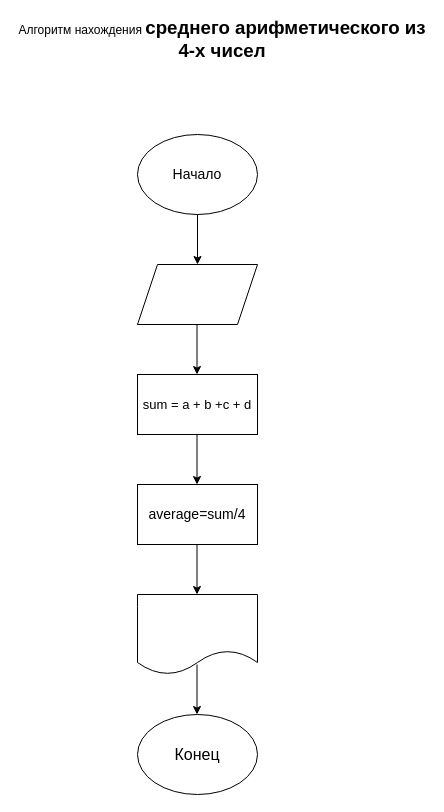
Some shapes in this 444 by 812 pixel diagram are drawn without their labels. Here are the shapes that lost their labels. From the top down, the centre of each, then its label:
the point at 197,294: a, b, c, d
the point at 197,634: average
